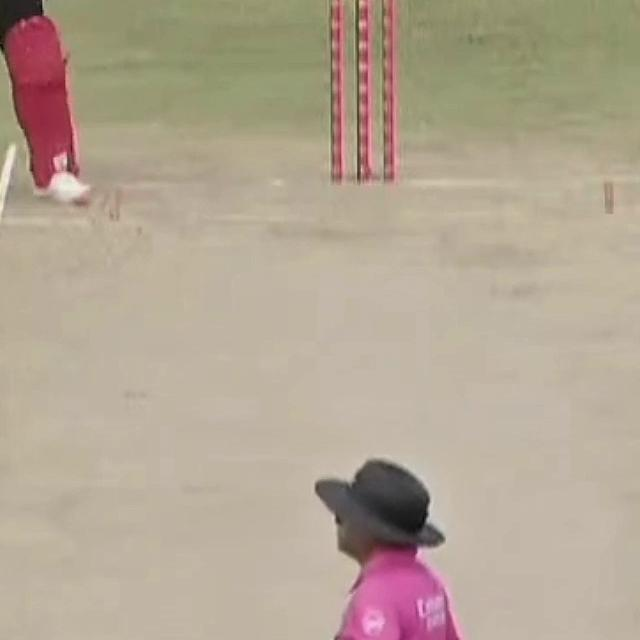umpire: (264, 450, 546, 640), (269, 440, 506, 640)
